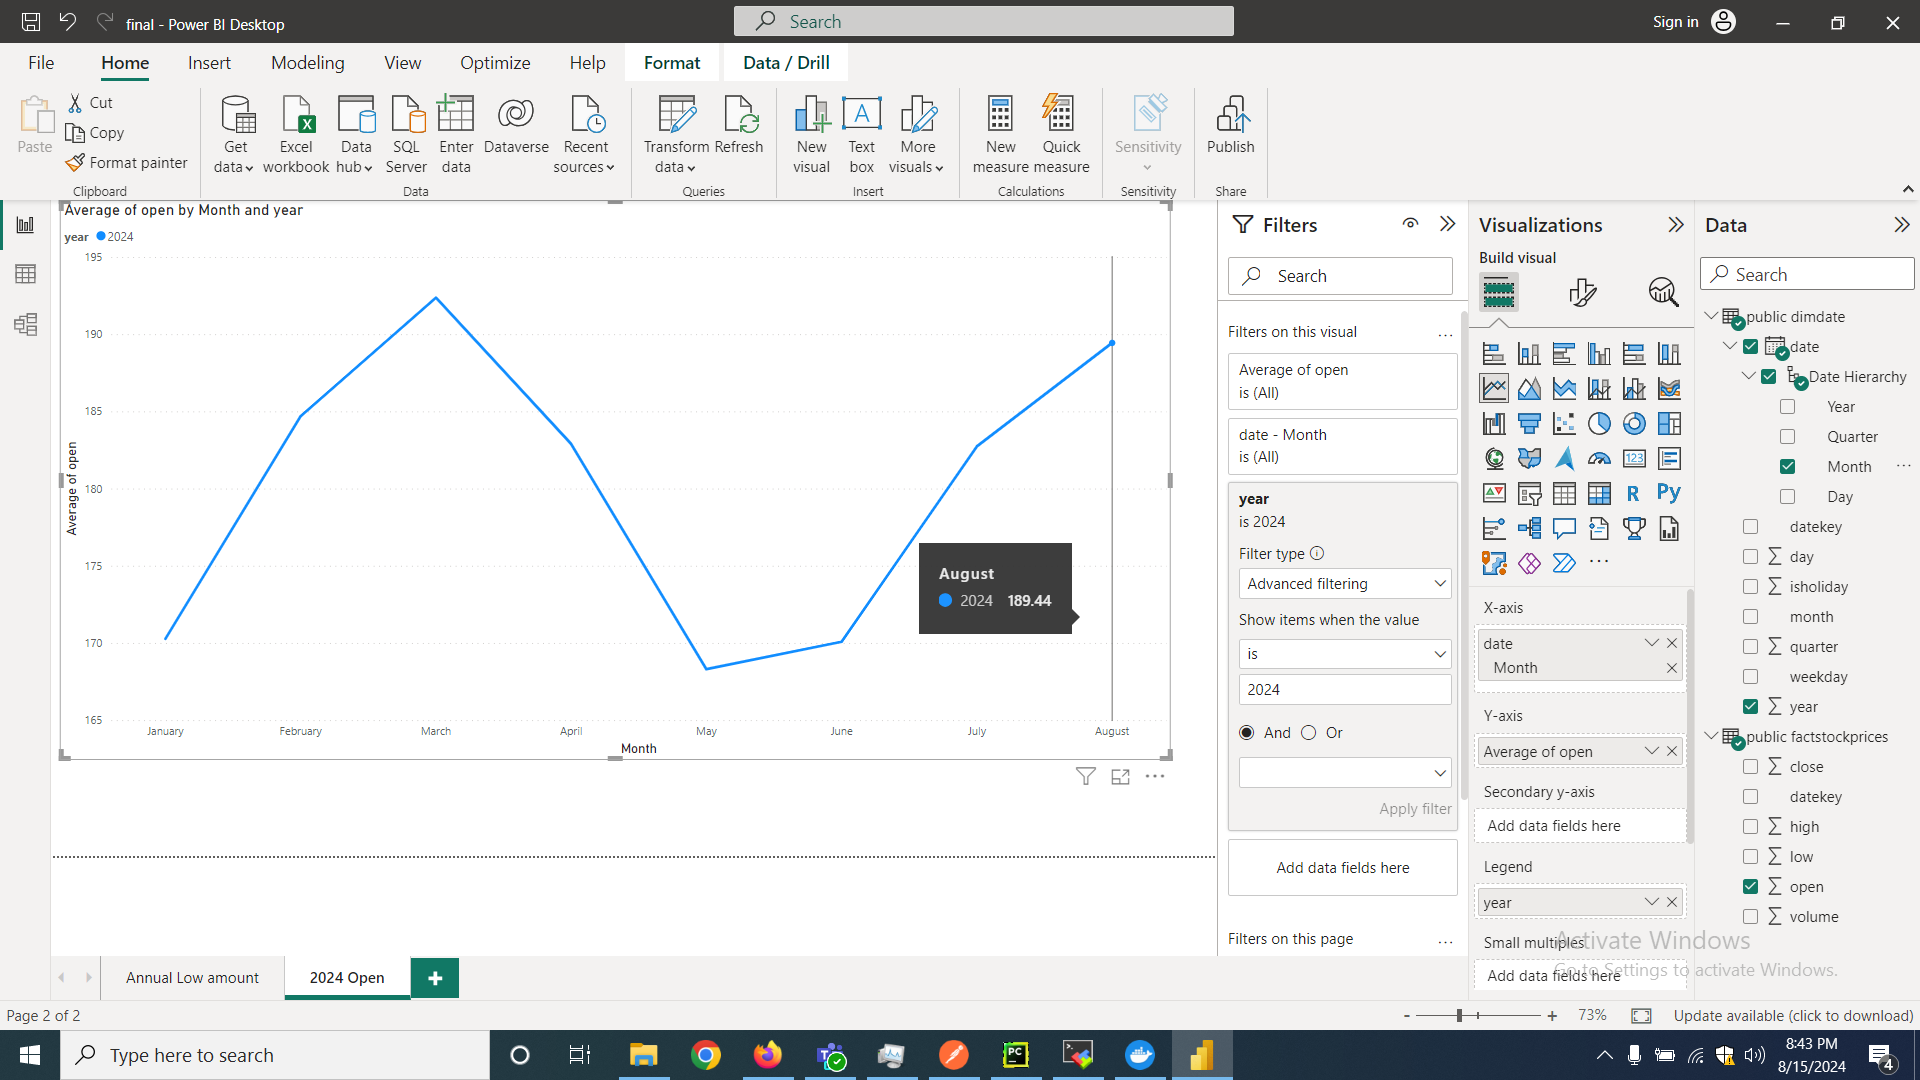

This screenshot's page, from the dashboard's own definition file:
{"tool":"powerbi","page":{"name":"2024 Open","canvas":[1280,720],"ordinal":1},"visuals":[{"type":"lineChart","fields":{"Y":["Avg(public factstockprices.open)"],"Series":["public dimdate.year"],"Category":["public dimdate.date.Variation.Date Hierarchy.Month"]},"box":[9.6,0,1219.9,614.8],"z":0}]}

Visuals, with their boxes on the page's 1280x720 design canvas (x1, y1, x2, y2). These are canvas units, not pixel positions in the 1920x1080 screenshot, which may show the page scaled, cropped or inside an application window:
lineChart - Avg(public factstockprices.open) x public dimdate.year: bbox(10, 0, 1230, 615)
